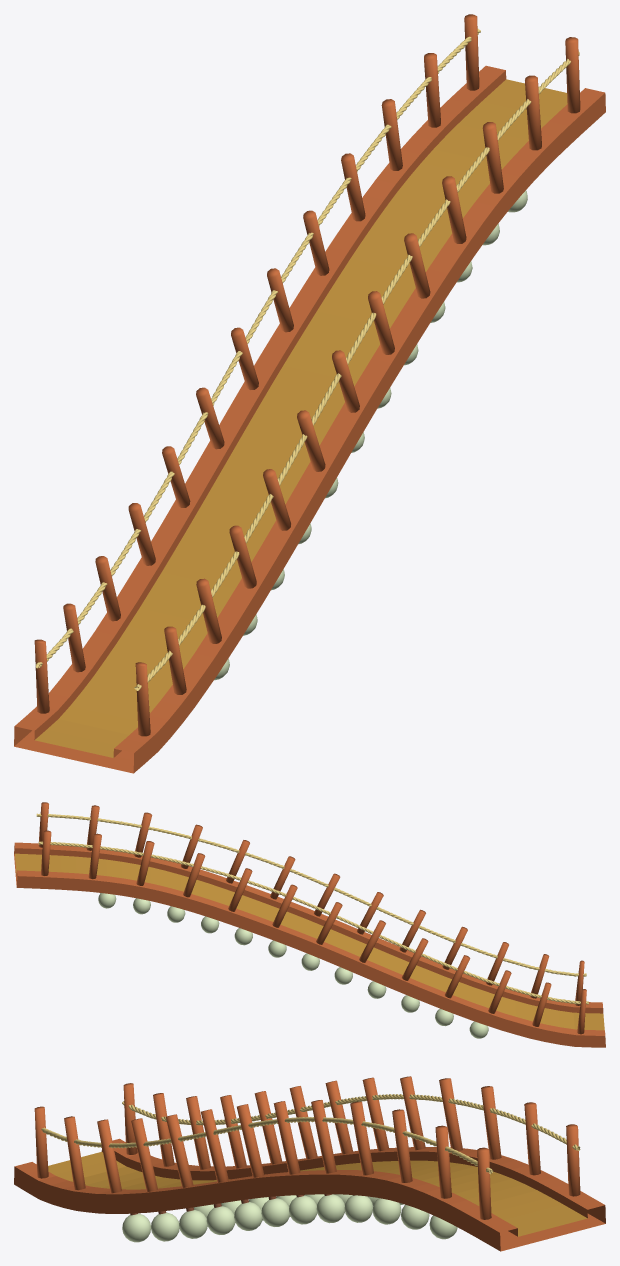
File: testmodelsRope_Twist_004.fbx
3 views of the same model, one above another, from view 1: azimuth 30°, elevation 25°; view 2: azimuth 150°, elevation 25°; view 3: azimuth 270°, elevation 25° (orthographic). The views are drawn at different scales.
Visible parts, largest first — view 1: Rope.Twist.004; view 2: Rope.Twist.004; view 3: Rope.Twist.004.
Boxes of the visible parts, x1=… form: Rope.Twist.004: x1=14, y1=14, x2=605, y2=773; Rope.Twist.004: x1=14, y1=802, x2=605, y2=1047; Rope.Twist.004: x1=14, y1=1076, x2=605, y2=1251.
Bounding box in the file's own units: 1377 × 620 × 964.
